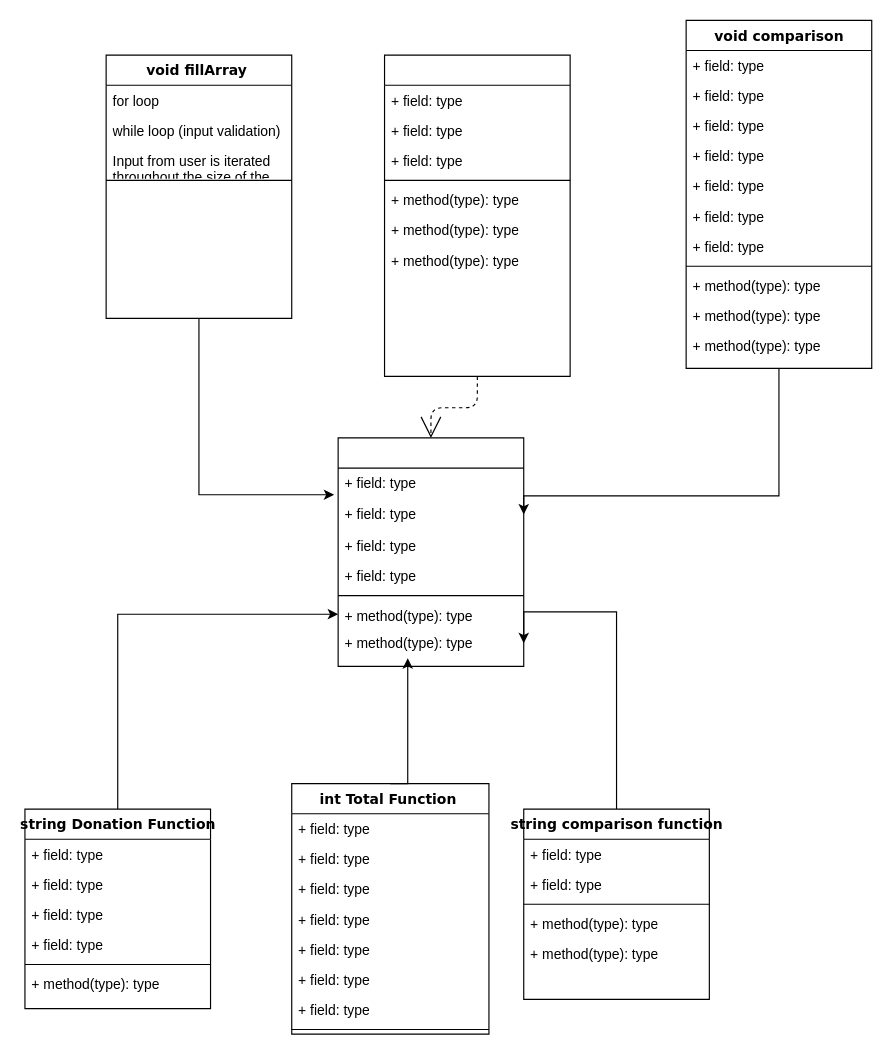
This 892x1054 diagram has some shape labels left out. Each missing label, with the box of its shape:
Main function: (337, 437, 524, 666)
void printArray: (383, 54, 570, 376)
